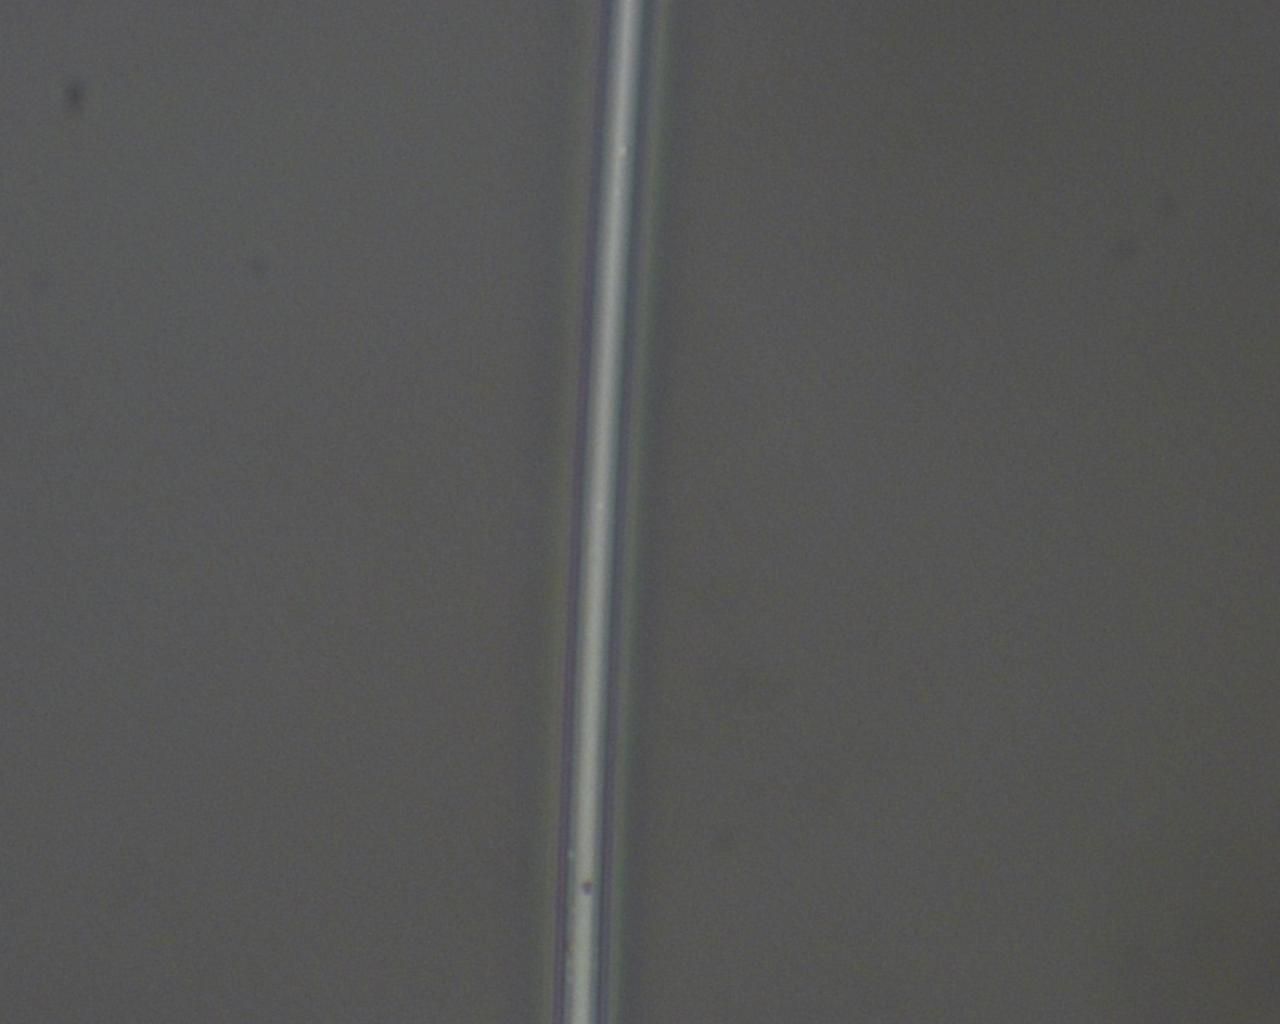fiber: (495, 0, 651, 1024)
